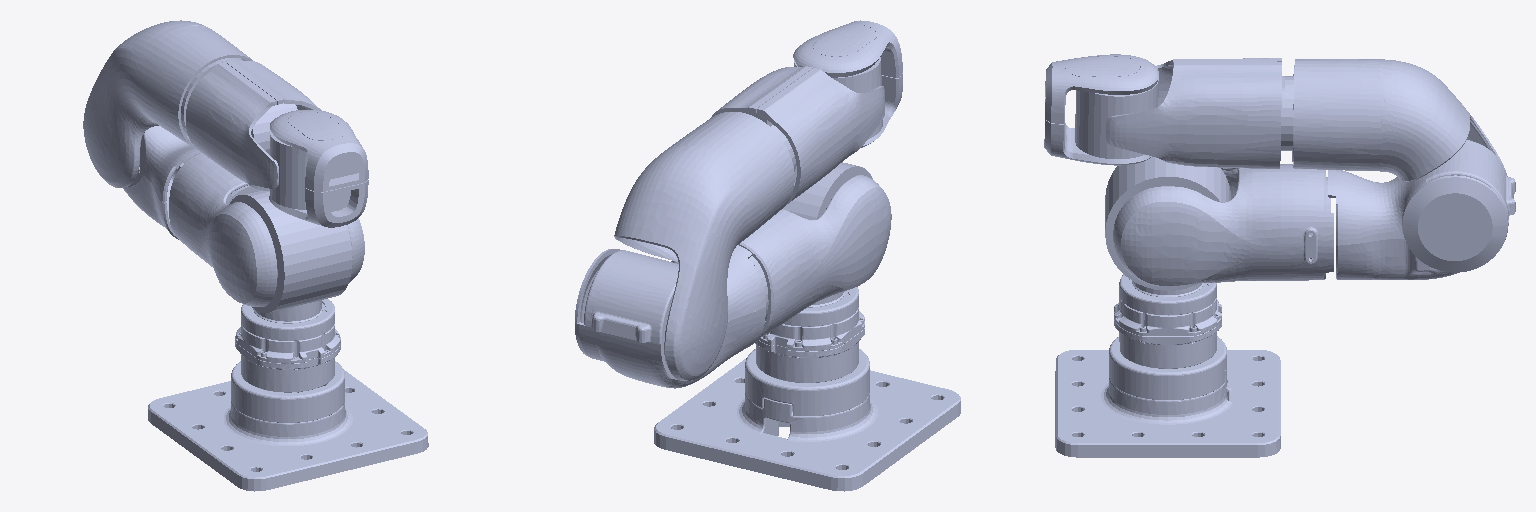
robot.urdf — R1_Robotic_Arm_L_V1.0-1027:
<?xml version="1.0" encoding="utf-8"?>
<!-- This URDF was automatically created by SolidWorks to URDF Exporter! Originally created by Stephen Brawner (brawner@gmail.com) 
     Commit Version: 1.6.0-4-g7f85cfe  Build Version: 1.6.7995.38578
     For more information, please see http://wiki.ros.org/sw_urdf_exporter -->
<robot
  name="R1_Robotic_Arm_L_V1.0-1027">
  <link
    name="base_link">
    <inertial>
      <origin
        xyz="0.000102 0.00028 0.014855"
        rpy="0 0 0" />
      <mass
        value="1.0444" />
      <inertia
        ixx="0.001766"
        ixy="1E-06"
        ixz="-1E-06"
        iyy="0.001771"
        iyz="2E-06"
        izz="0.001761" />
    </inertial>
    <visual>
      <origin
        xyz="0 0 0"
        rpy="0 0 0" />
      <geometry>
        <mesh
          filename="meshes/base_link.STL" />
      </geometry>
      <material
        name="">
        <color
          rgba="0.79216 0.81961 0.93333 1" />
      </material>
    </visual>
    <collision>
      <origin
        xyz="0 0 0"
        rpy="0 0 0" />
      <geometry>
        <mesh
          filename="meshes/base_link.STL" />
      </geometry>
    </collision>
  </link>
  <link
    name="Link1">
    <inertial>
      <origin
        xyz="0 0 0.045414"
        rpy="0 0 0" />
      <mass
        value="0.89452" />
      <inertia
        ixx="0.000825"
        ixy="0"
        ixz="0"
        iyy="0.000653"
        iyz="0"
        izz="0.000599" />
    </inertial>
    <visual>
      <origin
        xyz="0 0 0"
        rpy="0 0 0" />
      <geometry>
        <mesh
          filename="meshes/Link1.STL" />
      </geometry>
      <material
        name="">
        <color
          rgba="0.79216 0.81961 0.93333 1" />
      </material>
    </visual>
    <collision>
      <origin
        xyz="0 0 0"
        rpy="0 0 0" />
      <geometry>
        <mesh
          filename="meshes/Link1.STL" />
      </geometry>
    </collision>
  </link>
  <joint
    name="J1"
    type="revolute">
    <origin
      xyz="0 0 0.0689"
      rpy="0 0 0" />
    <parent
      link="base_link" />
    <child
      link="Link1" />
    <axis
      xyz="0 0 1" />
    <limit
      lower="-2.723"
      upper="2.723"
      effort="60"
      velocity="18.7" />
  </joint>
  <link
    name="Link2">
    <inertial>
      <origin
        xyz="-0.001703 0.063327 -0.004254"
        rpy="0 0 0" />
      <mass
        value="0.74756" />
      <inertia
        ixx="0.001137"
        ixy="9.3E-05"
        ixz="-6E-06"
        iyy="0.000672"
        iyz="-3.2E-05"
        izz="0.001314" />
    </inertial>
    <visual>
      <origin
        xyz="0 0 0"
        rpy="0 0 0" />
      <geometry>
        <mesh
          filename="meshes/Link2.STL" />
      </geometry>
      <material
        name="">
        <color
          rgba="0.79216 0.81961 0.93333 1" />
      </material>
    </visual>
    <collision>
      <origin
        xyz="0 0 0"
        rpy="0 0 0" />
      <geometry>
        <mesh
          filename="meshes/Link2.STL" />
      </geometry>
    </collision>
  </link>
  <joint
    name="J2"
    type="revolute">
    <origin
      xyz="0 0 0.047"
      rpy="0 0 0" />
    <parent
      link="Link1" />
    <child
      link="Link2" />
    <axis
      xyz="1 0 0" />
    <limit
      lower="0"
      upper="3.1416"
      effort="60"
      velocity="18.7" />
  </joint>
  <link
    name="Link3">
    <inertial>
      <origin
        xyz="0.006207 0.075752 0.012557"
        rpy="0 0 0" />
      <mass
        value="0.71845" />
      <inertia
        ixx="0.000746"
        ixy="2.9E-05"
        ixz="1.3E-05"
        iyy="0.000558"
        iyz="8.6E-05"
        izz="0.000728" />
    </inertial>
    <visual>
      <origin
        xyz="0 0 0"
        rpy="0 0 0" />
      <geometry>
        <mesh
          filename="meshes/Link3.STL" />
      </geometry>
      <material
        name="">
        <color
          rgba="0.79216 0.81961 0.93333 1" />
      </material>
    </visual>
    <collision>
      <origin
        xyz="0 0 0"
        rpy="0 0 0" />
      <geometry>
        <mesh
          filename="meshes/Link3.STL" />
      </geometry>
    </collision>
  </link>
  <joint
    name="J3"
    type="revolute">
    <origin
      xyz="0 0.1085 -0.0047926"
      rpy="0 0 0" />
    <parent
      link="Link2" />
    <child
      link="Link3" />
    <axis
      xyz="0 -1 0" />
    <limit
      lower="-0.349"
      upper="3.491"
      effort="33"
      velocity="33.4" />
  </joint>
  <link
    name="Link4">
    <inertial>
      <origin
        xyz="-0.039083 -0.070453 0.060061"
        rpy="0 0 0" />
      <mass
        value="0.85581" />
      <inertia
        ixx="0.001009"
        ixy="-8.4E-05"
        ixz="6.3E-05"
        iyy="0.000707"
        iyz="-0.000139"
        izz="0.00093" />
    </inertial>
    <visual>
      <origin
        xyz="0 0 0"
        rpy="0 0 0" />
      <geometry>
        <mesh
          filename="meshes/Link4.STL" />
      </geometry>
      <material
        name="">
        <color
          rgba="0.79216 0.81961 0.93333 1" />
      </material>
    </visual>
    <collision>
      <origin
        xyz="0 0 0"
        rpy="0 0 0" />
      <geometry>
        <mesh
          filename="meshes/Link4.STL" />
      </geometry>
    </collision>
  </link>
  <joint
    name="J4"
    type="revolute">
    <origin
      xyz="0.0350000000000001 0.0824079588219821 0.0161914700107052"
      rpy="0 0 0" />
    <parent
      link="Link3" />
    <child
      link="Link4" />
    <axis
      xyz="-1 0 0" />
    <limit
      lower="0"
      upper="3.1416"
      effort="33"
      velocity="33.4" />
  </joint>
  <link
    name="Link5">
    <inertial>
      <origin
        xyz="-0.00042959 -0.043109 0.00021162"
        rpy="0 0 0" />
      <mass
        value="0.59275" />
      <inertia
        ixx="0.00050532"
        ixy="-2.2427E-06"
        ixz="8.9475E-07"
        iyy="0.00034902"
        iyz="-9.8891E-07"
        izz="0.00050082" />
    </inertial>
    <visual>
      <origin
        xyz="0 0 0"
        rpy="0 0 0" />
      <geometry>
        <mesh
          filename="meshes/Link5.STL" />
      </geometry>
      <material
        name="">
        <color
          rgba="0.79216 0.81961 0.93333 1" />
      </material>
    </visual>
    <collision>
      <origin
        xyz="0 0 0"
        rpy="0 0 0" />
      <geometry>
        <mesh
          filename="meshes/Link5.STL" />
      </geometry>
    </collision>
  </link>
  <joint
    name="J5"
    type="revolute">
    <origin
      xyz="-0.037686 -0.10786 0.062877"
      rpy="-0.017453 0 0" />
    <parent
      link="Link4" />
    <child
      link="Link5" />
    <axis
      xyz="0 -1 0" />
    <limit
      lower="-2.269"
      upper="2.269"
      effort="33"
      velocity="33.4" />
  </joint>
  <link
    name="Link6">
    <inertial>
      <origin
        xyz="-0.0026749 -0.0098038 -2.7756E-17"
        rpy="0 0 0" />
      <mass
        value="0.19707" />
      <inertia
        ixx="7.1783E-05"
        ixy="-3.0545E-10"
        ixz="3.5551E-11"
        iyy="7.4277E-05"
        iyz="2.4279E-21"
        izz="7.6552E-05" />
    </inertial>
    <visual>
      <origin
        xyz="0 0 0"
        rpy="0 0 0" />
      <geometry>
        <mesh
          filename="meshes/Link6.STL" />
      </geometry>
      <material
        name="">
        <color
          rgba="0.79216 0.81961 0.93333 1" />
      </material>
    </visual>
    <collision>
      <origin
        xyz="0 0 0"
        rpy="0 0 0" />
      <geometry>
        <mesh
          filename="meshes/Link6.STL" />
      </geometry>
    </collision>
  </link>
  <joint
    name="J6"
    type="revolute">
    <origin
      xyz="0.0026861 -0.1072 0.0006561"
      rpy="0 0.016375 0" />
    <parent
      link="Link5" />
    <child
      link="Link6" />
    <axis
      xyz="-1 0 0" />
    <limit
      lower="-0.524"
      upper="0.524"
      effort="10"
      velocity="37.7" />
  </joint>
  <link
    name="Link7">
    <inertial>
      <origin
        xyz="-1.4898E-07 -0.016875 -0.005546"
        rpy="0 0 0" />
      <mass
        value="0.097861" />
      <inertia
        ixx="0.0001"
        ixy="0"
        ixz="0"
        iyy="7.2E-05"
        iyz="-1E-06"
        izz="6.2E-05" />
    </inertial>
    <visual>
      <origin
        xyz="0 0 0"
        rpy="0 0 0" />
      <geometry>
        <mesh
          filename="meshes/Link7.STL" />
      </geometry>
      <material
        name="">
        <color
          rgba="0.79216 0.81961 0.93333 1" />
      </material>
    </visual>
    <collision>
      <origin
        xyz="0 0 0"
        rpy="0 0 0" />
      <geometry>
        <mesh
          filename="meshes/Link7.STL" />
      </geometry>
    </collision>
  </link>
  <joint
    name="J7"
    type="revolute">
    <origin
      xyz="-0.002675 -0.01 0"
      rpy="0 0 0" />
    <parent
      link="Link6" />
    <child
      link="Link7" />
    <axis
      xyz="0 0 -1" />
    <limit
      lower="-1.571"
      upper="1.571"
      effort="10"
      velocity="37.7" />
  </joint>
</robot>

--- Render facts (derived) ---
3 views of the same robot in one strip: view 1: azimuth 30°, elevation 25°; view 2: azimuth 150°, elevation 25°; view 3: azimuth 270°, elevation 25° (orthographic).
Robot: R1_Robotic_Arm_L_V1.0-1027 — 8 links, 7 joints (7 revolute); root link base_link; default pose: all joints at 0.
Visible links, largest first — view 1: base_link, Link4, Link2, Link5, Link1, Link7, Link3, Link6; view 2: base_link, Link4, Link3, Link2, Link5, Link7, Link1, Link6; view 3: base_link, Link2, Link3, Link4, Link5, Link7, Link1, Link6.
Boxes of the visible links, x1,y1,x2,y2 form: base_link: (148, 299, 428, 491); Link4: (83, 20, 252, 187); Link2: (169, 153, 364, 306); Link5: (186, 61, 321, 190); Link1: (229, 190, 352, 321); Link7: (269, 110, 368, 227); Link3: (123, 126, 201, 239); Link6: (270, 130, 308, 209); base_link: (654, 287, 960, 491); Link4: (614, 112, 794, 380); Link3: (575, 245, 765, 388); Link2: (671, 175, 891, 337); Link5: (711, 66, 884, 204); Link7: (793, 20, 902, 147); Link1: (783, 162, 872, 304); Link6: (794, 57, 882, 138); base_link: (1055, 274, 1280, 457); Link2: (1113, 164, 1333, 286); Link3: (1328, 140, 1515, 279); Link4: (1292, 59, 1503, 181); Link5: (1106, 58, 1293, 168); Link7: (1044, 54, 1158, 165); Link1: (1105, 157, 1230, 294); Link6: (1075, 78, 1158, 158).
Size in the robot's own frame: 0.15 by 0.3133 by 0.2527 metres.
Meshes: 8 distinct files referenced, 8 mesh visuals loaded (8 binary STL).
